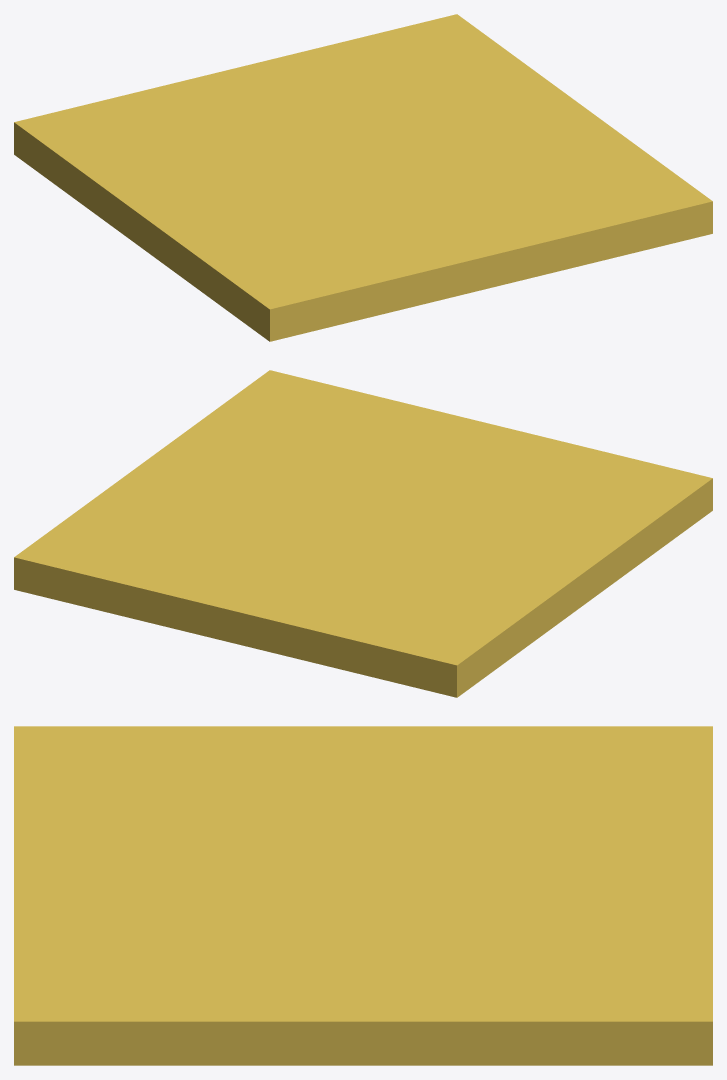
File: CO_Airfield_LOD0.glb
3 views of the same model, one above another, from view 1: azimuth 30°, elevation 25°; view 2: azimuth 150°, elevation 25°; view 3: azimuth 270°, elevation 25° (orthographic). The views are drawn at different scales.
Visible parts, largest first — view 1: Cube.001; view 2: Cube.001; view 3: Cube.001.
Boxes of the visible parts, x1=… form: Cube.001: x1=14, y1=14, x2=712, y2=341; Cube.001: x1=14, y1=370, x2=712, y2=697; Cube.001: x1=14, y1=726, x2=712, y2=1065.
Bounding box in the file's own units: 13.6 × 1.42 × 13.6.
